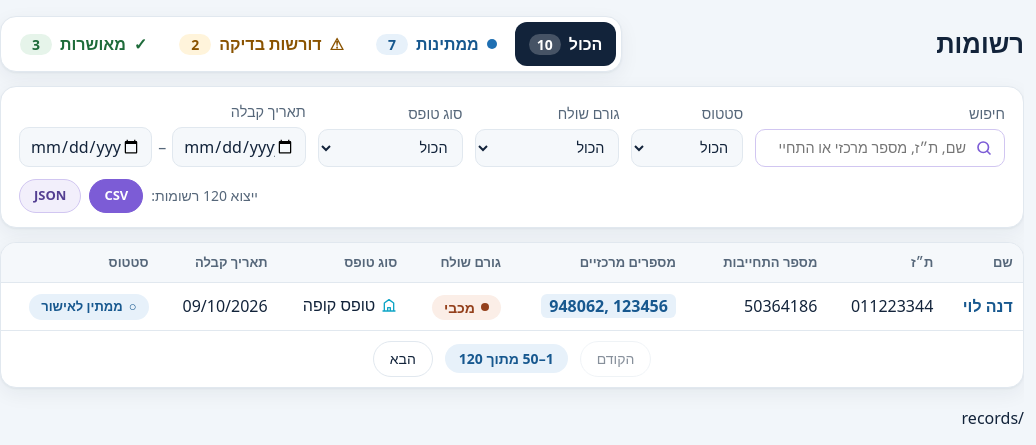
Test case: RecordsPage › pages through the list
The width and height of the screenshot is (1036, 445).
Check: the text "1–50 מתוך 120" is shown, box [445,344,568,373]
Click the button "הבא".
click(403, 359)  # box [373,341,433,377]
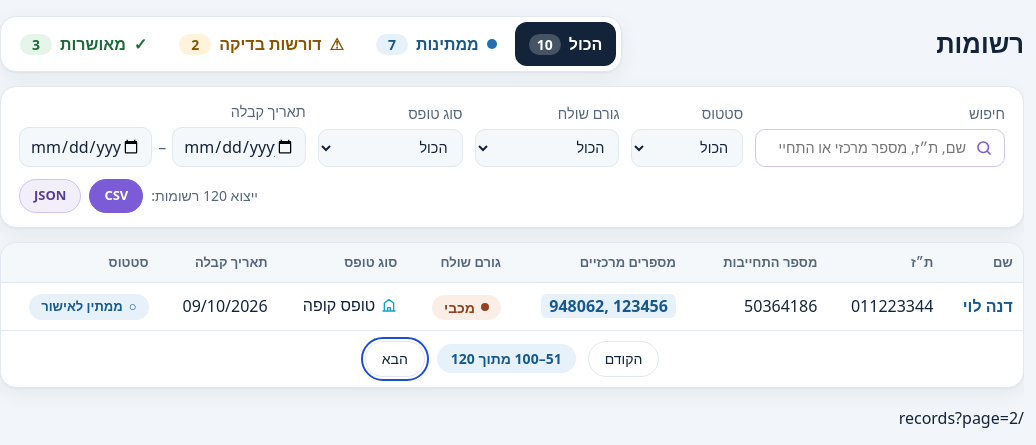
Check: the text with test id "where" reads "/records?page=2", box [899,407,1024,429]
